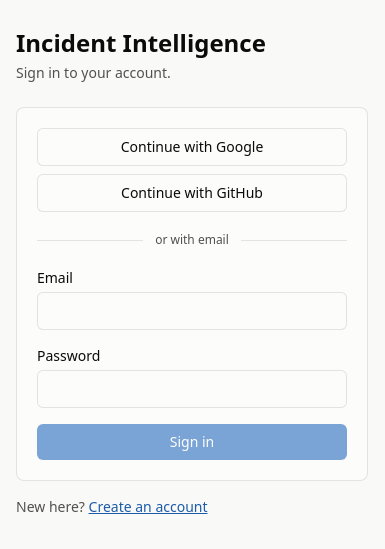
Test: SignInPage › shows a clear message when sign-in fails
Type "priya@example.test" into the field labelled "Email".
click(192, 311); type("priya@example.test")  # box [37,292,347,330]
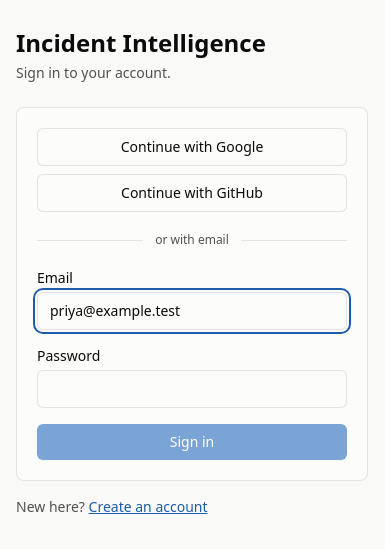
Type "wrong" into the password field labelled "Password".
click(192, 389); type("wrong")  # box [37,370,347,408]
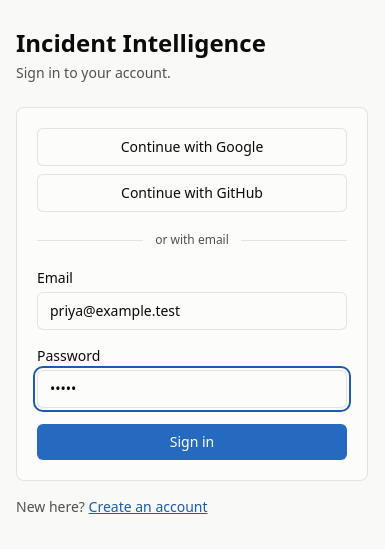
Click the button "Sign in".
click(192, 442)  # box [37,424,347,460]
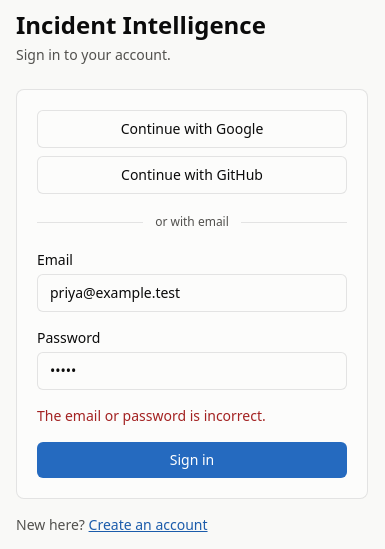
Expected: the message reads "The email or password is incorrect.", [37,406,266,425]
